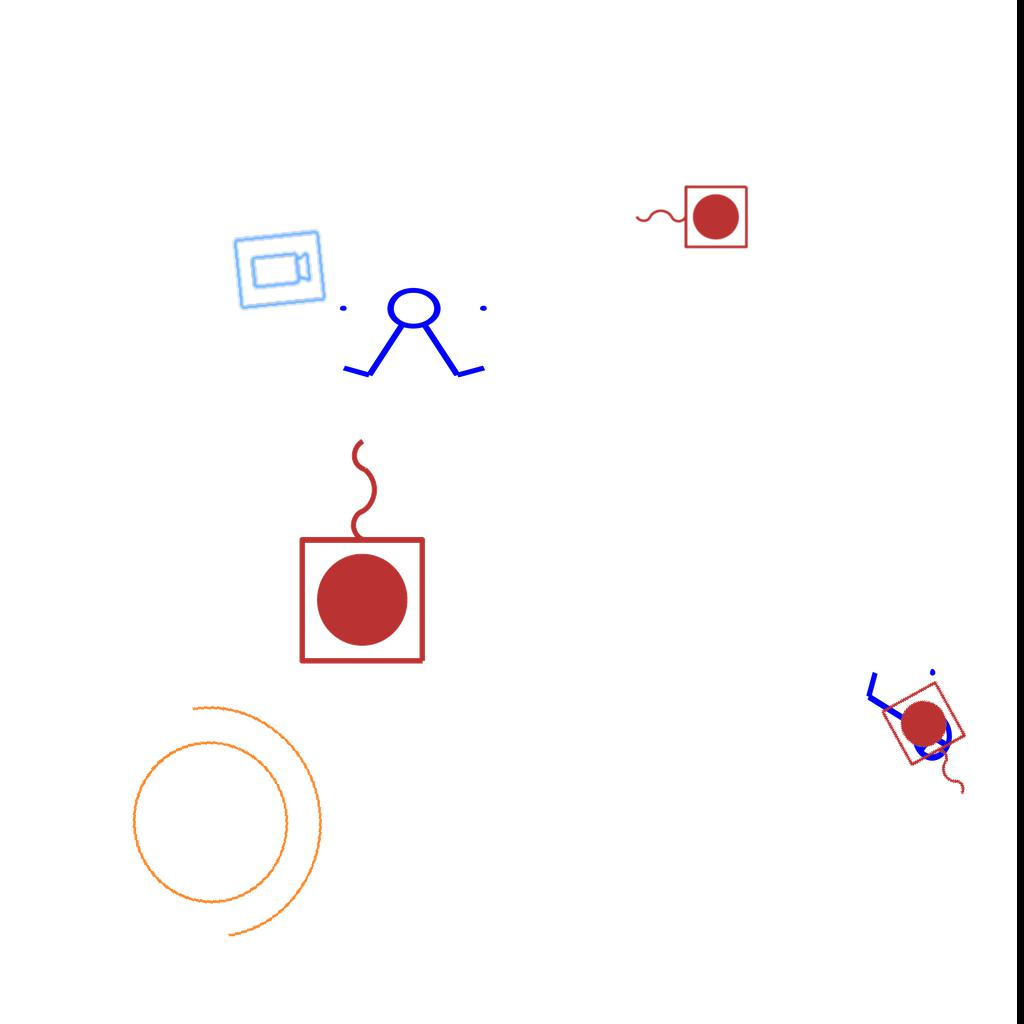Ausschalter_beleuchtet: (858, 663, 954, 775)
KFO_Kamera_mit_Festobjektiv: (230, 227, 329, 314)
Scheinwerfer_fuer_Alarmbeleuchtung: (87, 666, 351, 963)
Serienschalter: (331, 286, 499, 382)
Zugtaster: (292, 428, 436, 672), (873, 675, 997, 817), (630, 180, 752, 252)
